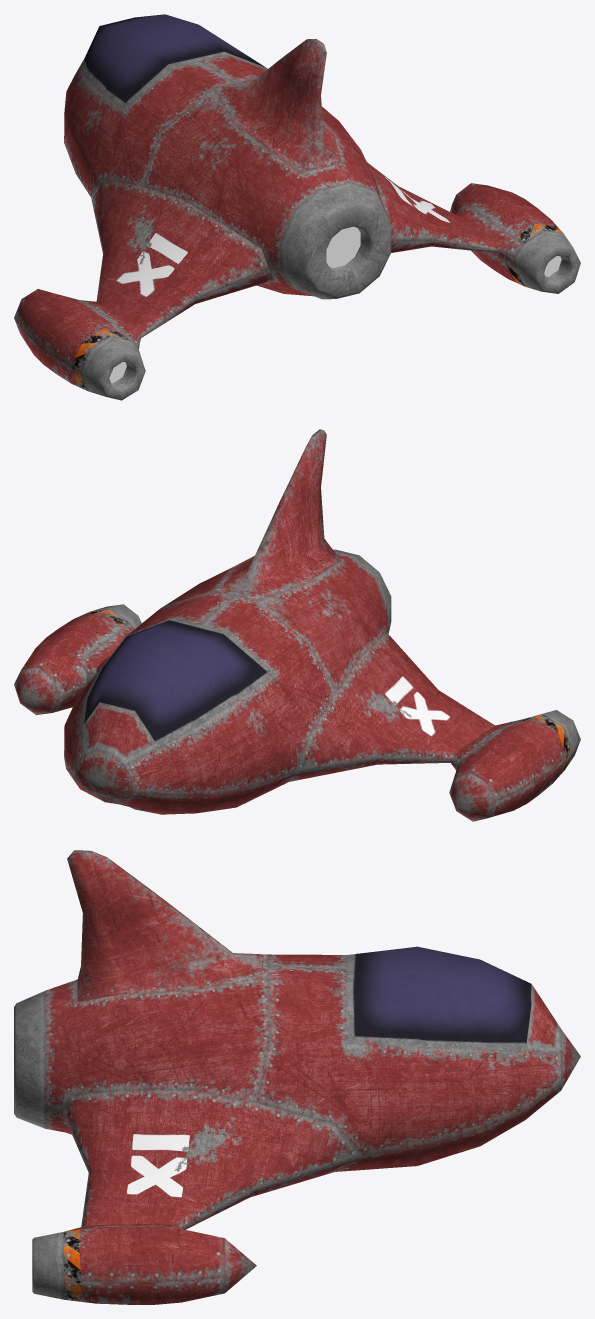
File: rocket.FBX
3 renders of one model, top to bottom at view 1: azimuth 30°, elevation 25°; view 2: azimuth 150°, elevation 25°; view 3: azimuth 270°, elevation 25°, orthographic. The views are drawn at different scales.
Parts seen in each view (by area): view 1: rocket, jetLeft, jetRight; view 2: rocket, jetLeft, jetRight; view 3: rocket, jetRight.
Boxes of the visible parts, left/top/right/bottom form: rocket: left=64, top=14, right=496, bottom=337; jetLeft: left=14, top=289, right=145, bottom=400; jetRight: left=450, top=183, right=580, bottom=293; rocket: left=64, top=429, right=494, bottom=814; jetLeft: left=449, top=710, right=580, bottom=821; jetRight: left=14, top=604, right=141, bottom=715; rocket: left=14, top=850, right=580, bottom=1229; jetRight: left=32, top=1223, right=256, bottom=1304.
Size of the model in its own units: 69.93 by 40 by 61.48.
